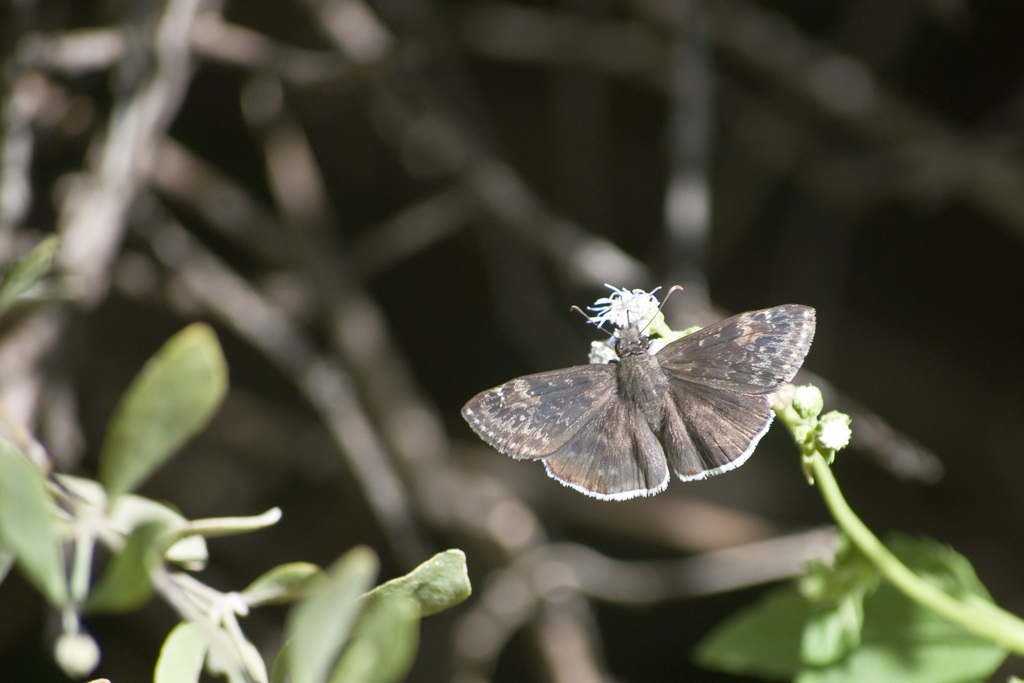Butterfly: (470, 310, 831, 496)
